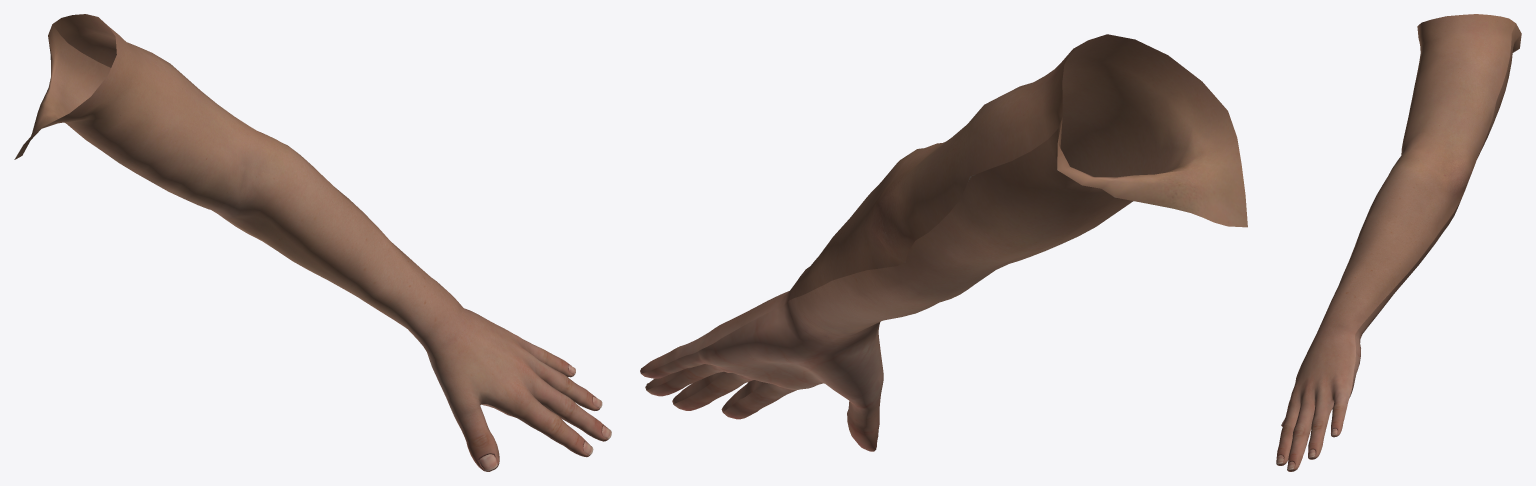
File: Hand.obj
The picture shows the model from 3 angles, left to right: view 1: azimuth 30°, elevation 25°; view 2: azimuth 150°, elevation 25°; view 3: azimuth 270°, elevation 25°; orthographic projection. The views are drawn at different scales.
Visible parts, largest first — view 1: Arm; view 2: Arm; view 3: Arm.
Part boxes in pixels (x1,y1,x2,y2): Arm: (14,14,611,471); Arm: (640,34,1247,451); Arm: (1276,14,1521,471).
Size of the model in its own units: 0.1352 by 0.1123 by 0.0777.
1 material, 1 textured.
